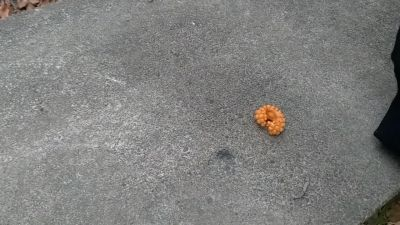eggs: (255, 102, 286, 138)
